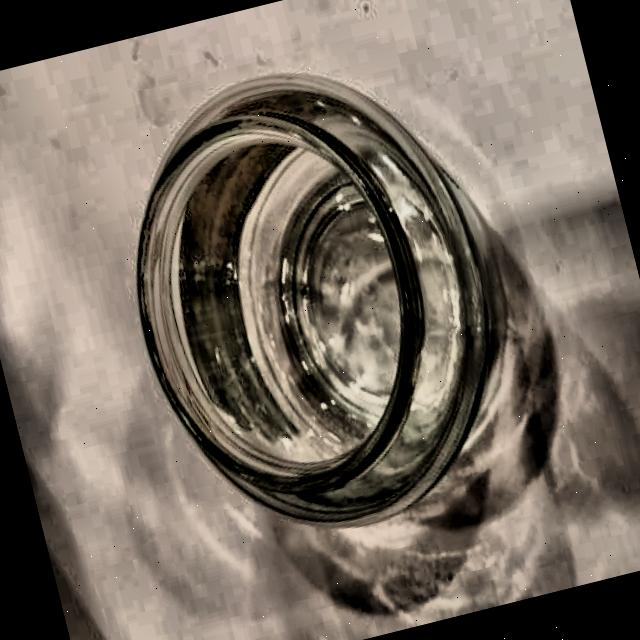glass: (85, 31, 552, 572)
